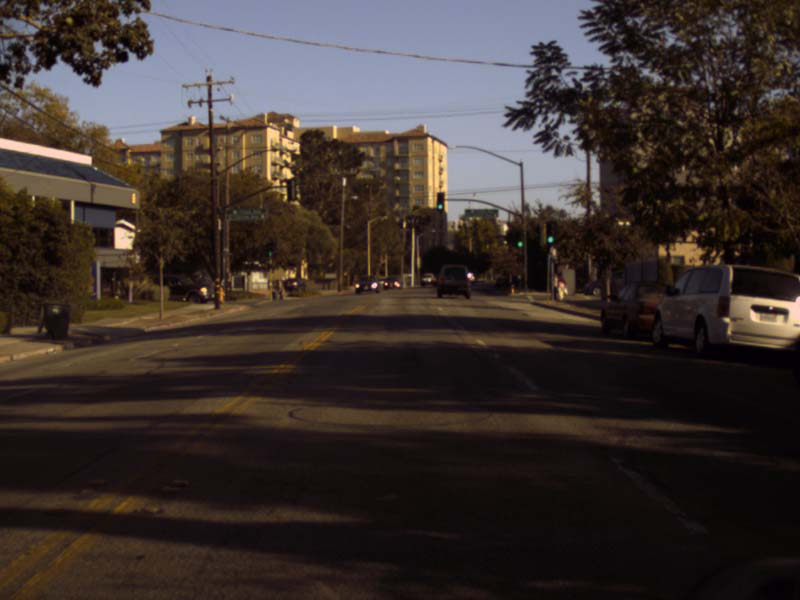Green: (546, 222, 555, 244), (516, 231, 524, 246), (437, 192, 443, 211), (268, 242, 274, 256)
